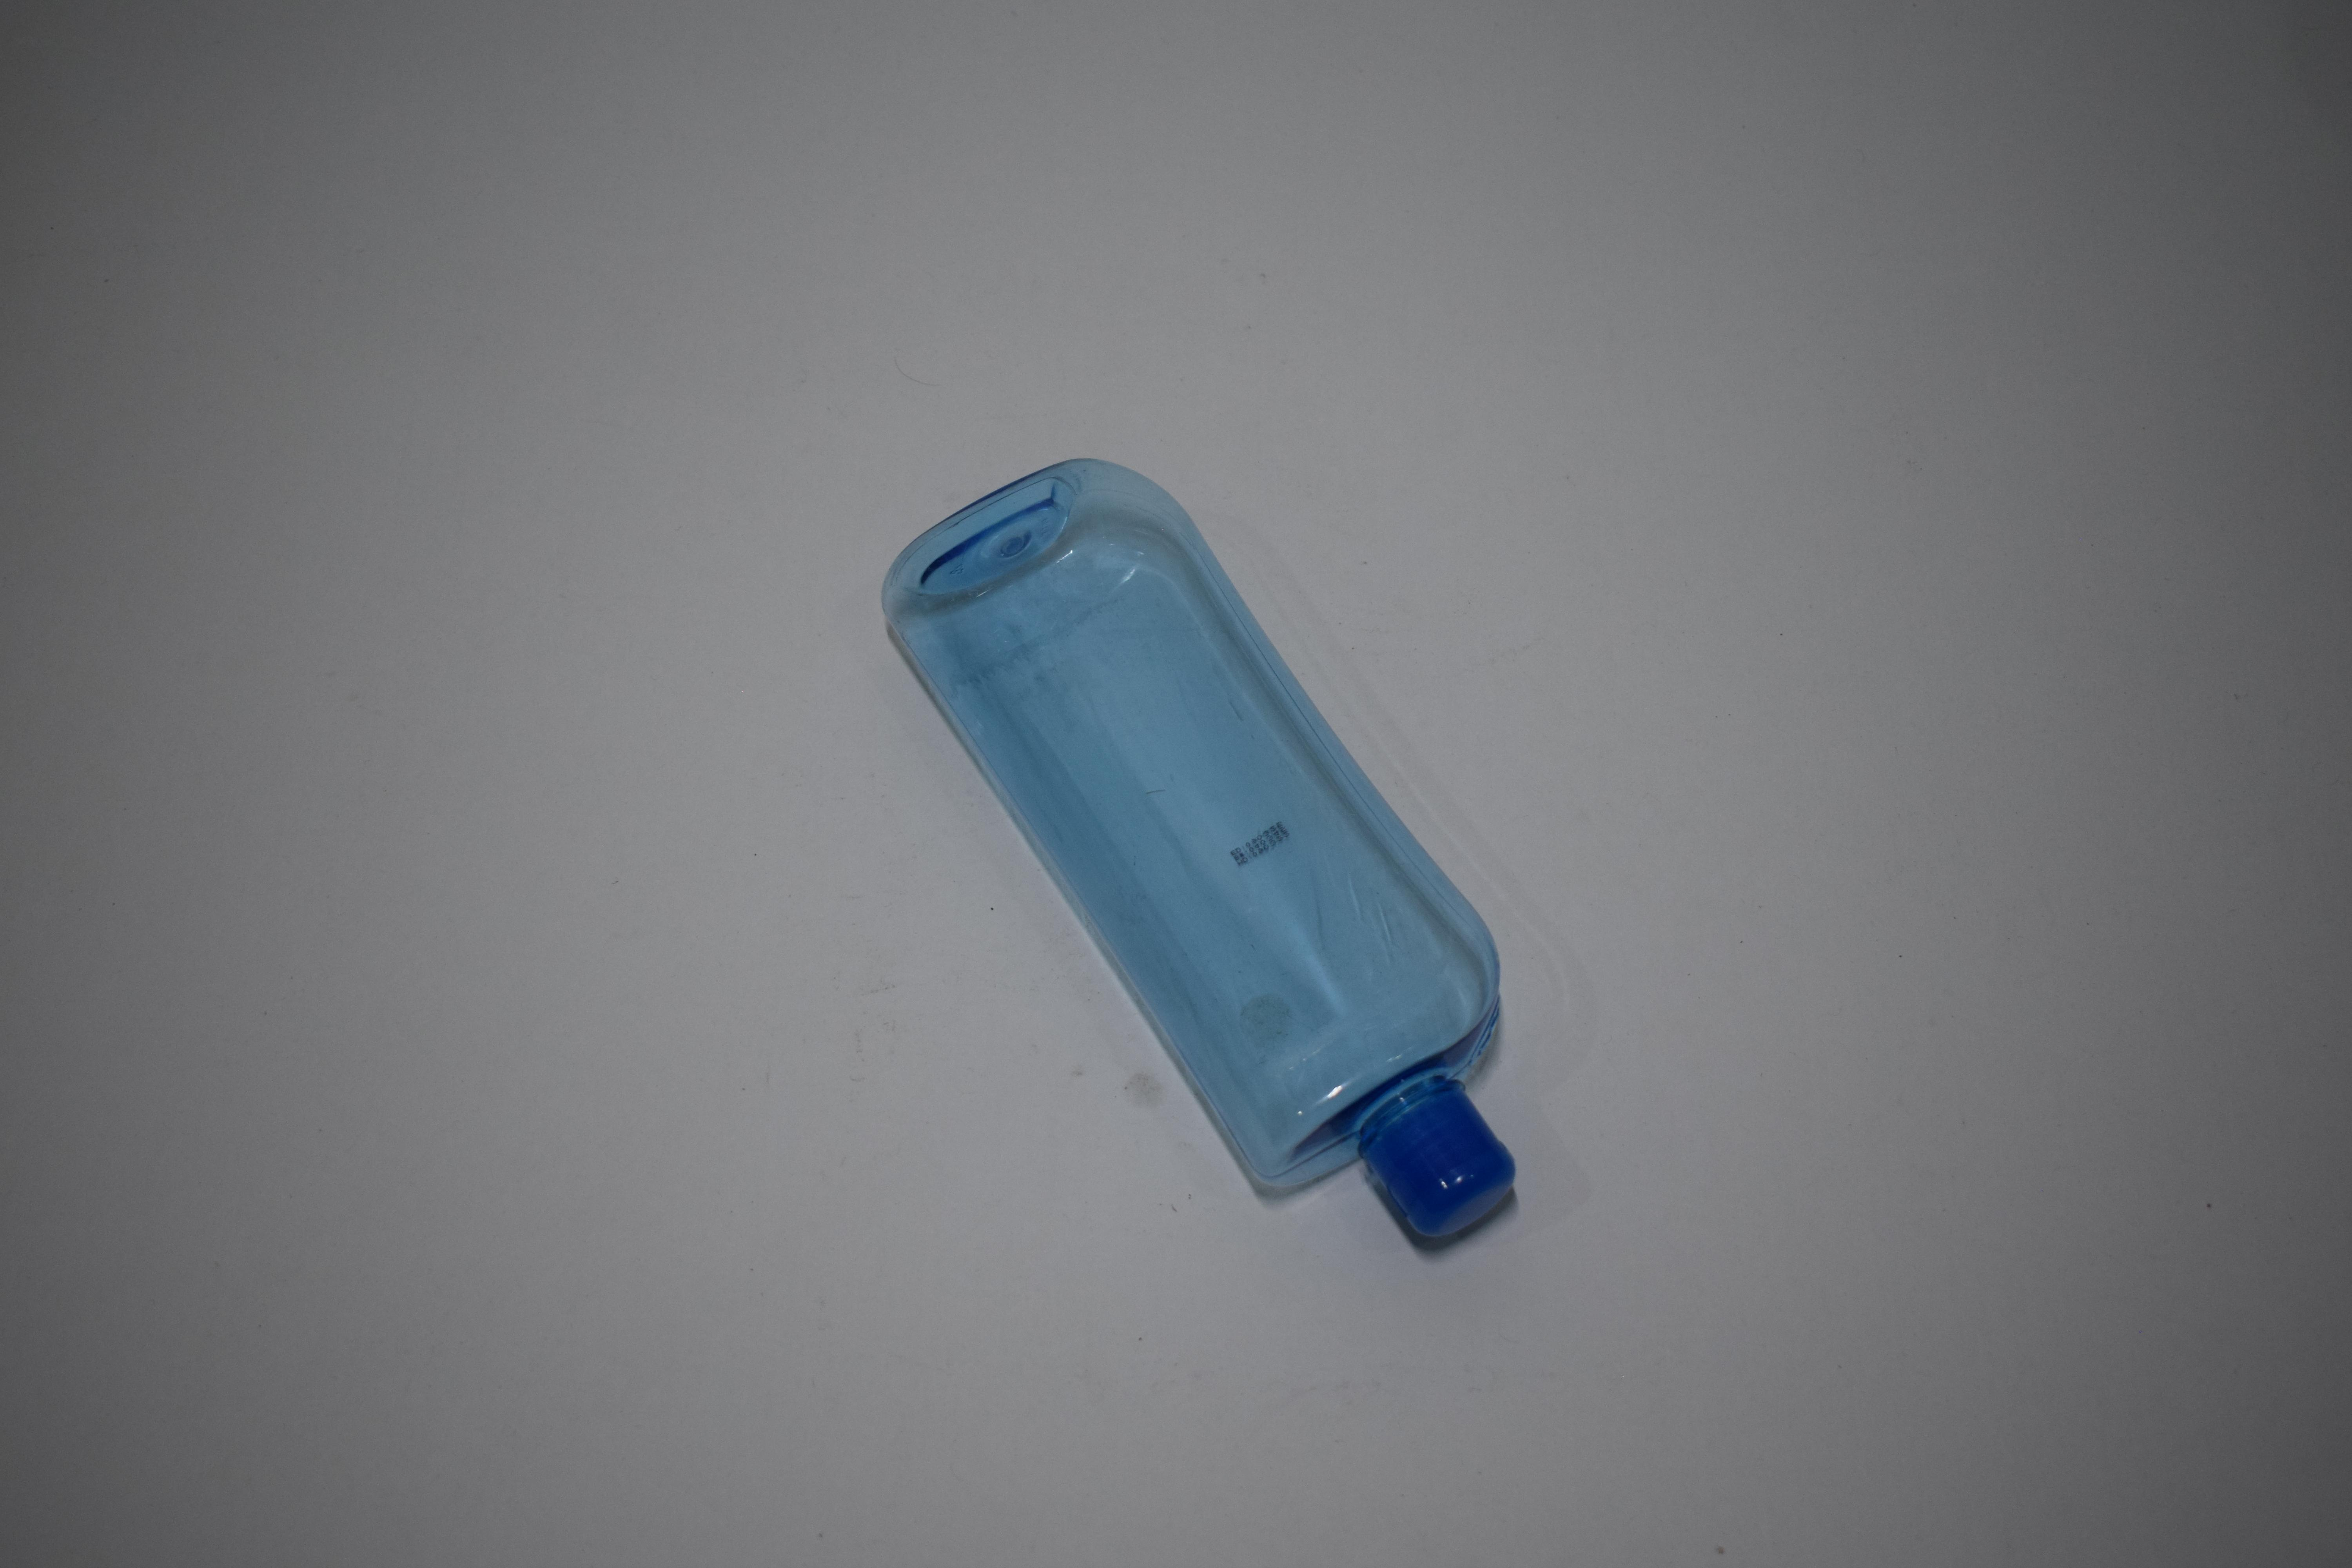bottle: (0, 59, 354, 86)
